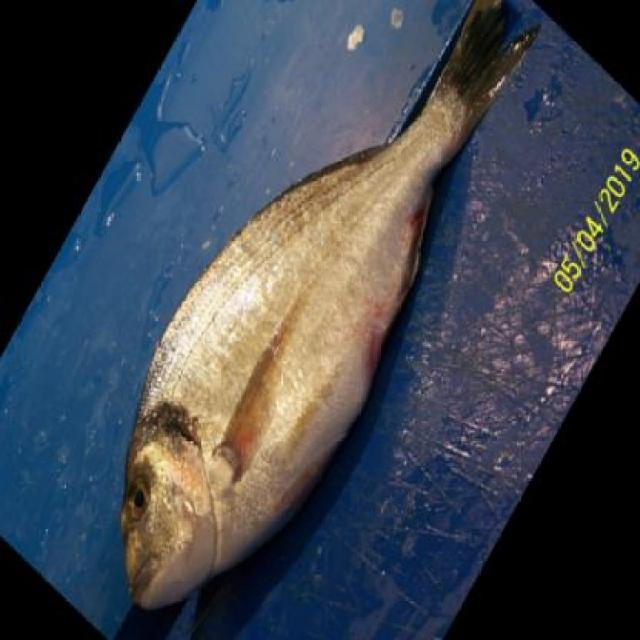Healthy Fish: (111, 0, 516, 615)
